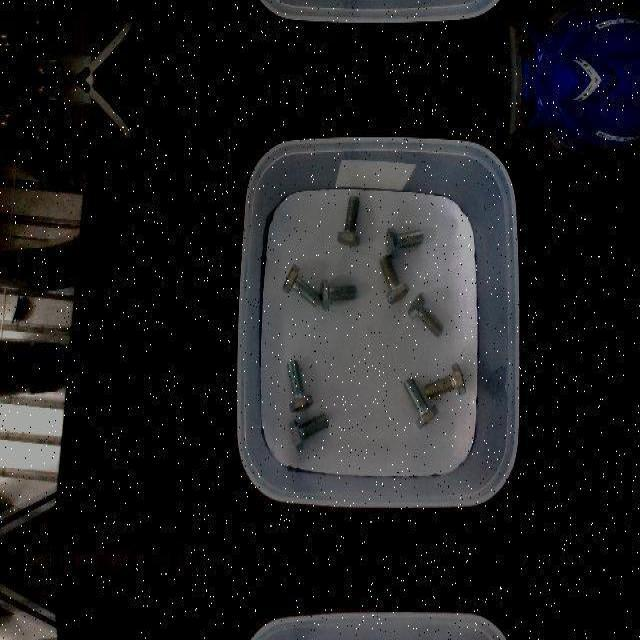screw: (403, 376, 437, 430), (408, 292, 445, 338), (282, 262, 320, 306), (289, 412, 329, 452), (426, 364, 467, 400), (286, 359, 313, 413), (379, 255, 409, 303), (338, 196, 361, 248), (386, 227, 423, 259), (321, 278, 358, 308)
